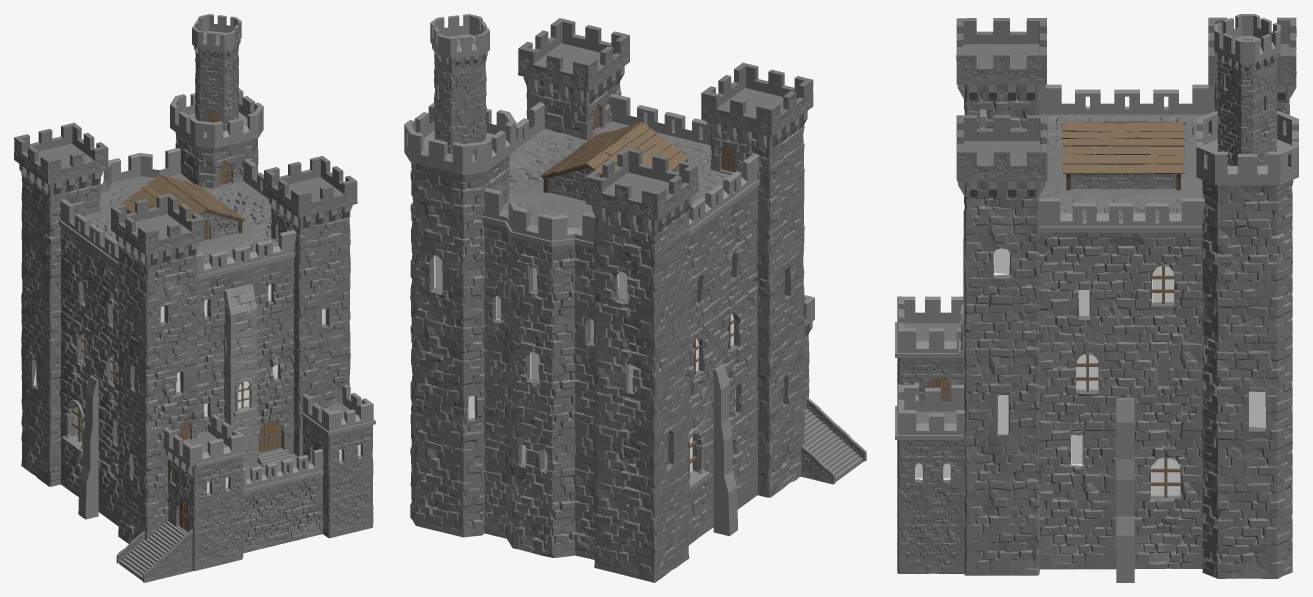
File: castle_keep_c.FBX
3 views of the same model, side by side, from view 1: azimuth 30°, elevation 25°; view 2: azimuth 150°, elevation 25°; view 3: azimuth 270°, elevation 25° (orthographic). The views are drawn at different scales.
Visible parts, largest first — view 1: castle_keep_c; view 2: castle_keep_c; view 3: castle_keep_c.
Part boxes in pixels (bbox=[...]): castle_keep_c: bbox=[14, 14, 375, 582]; castle_keep_c: bbox=[404, 14, 866, 582]; castle_keep_c: bbox=[895, 14, 1298, 582].
Size of the model in its own units: 23.93 by 39.29 by 26.76.
